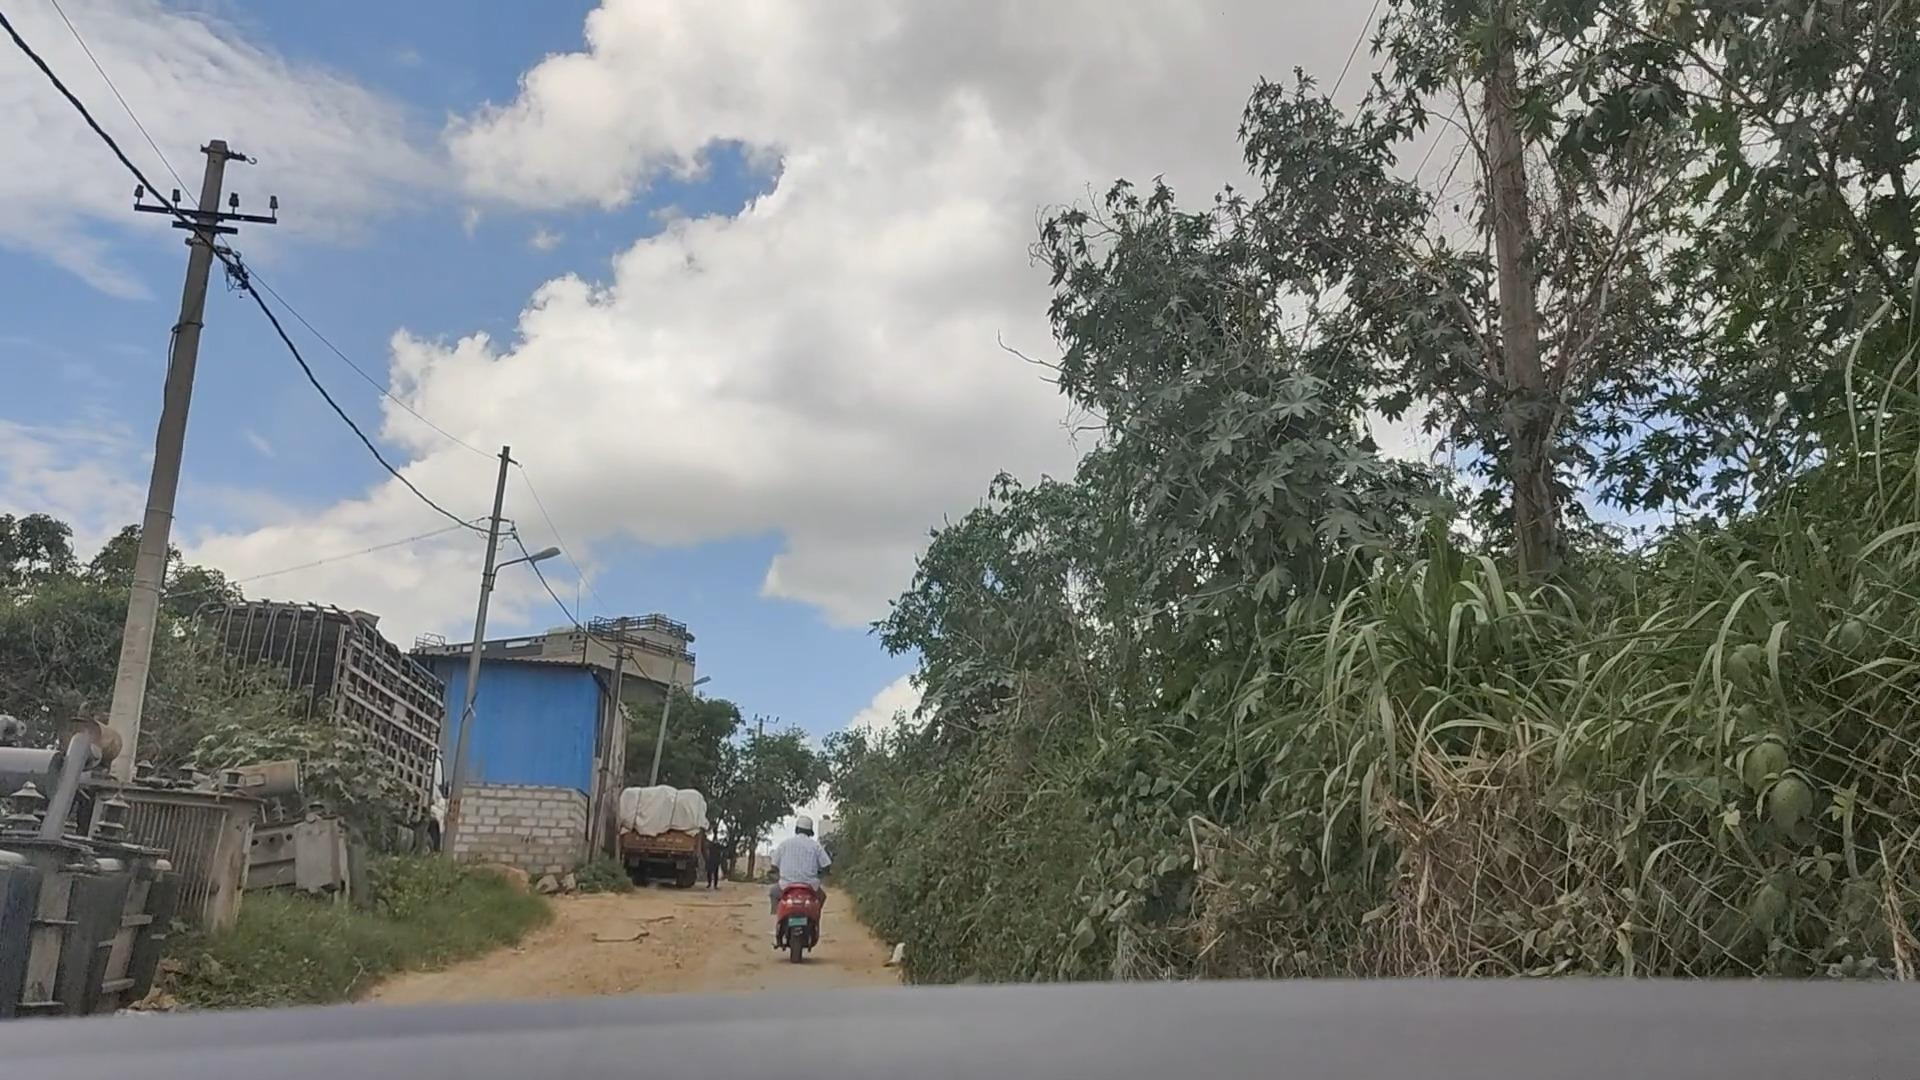HMV: (605, 774, 705, 893)
UnsurfacedRoad: (488, 897, 733, 994)
